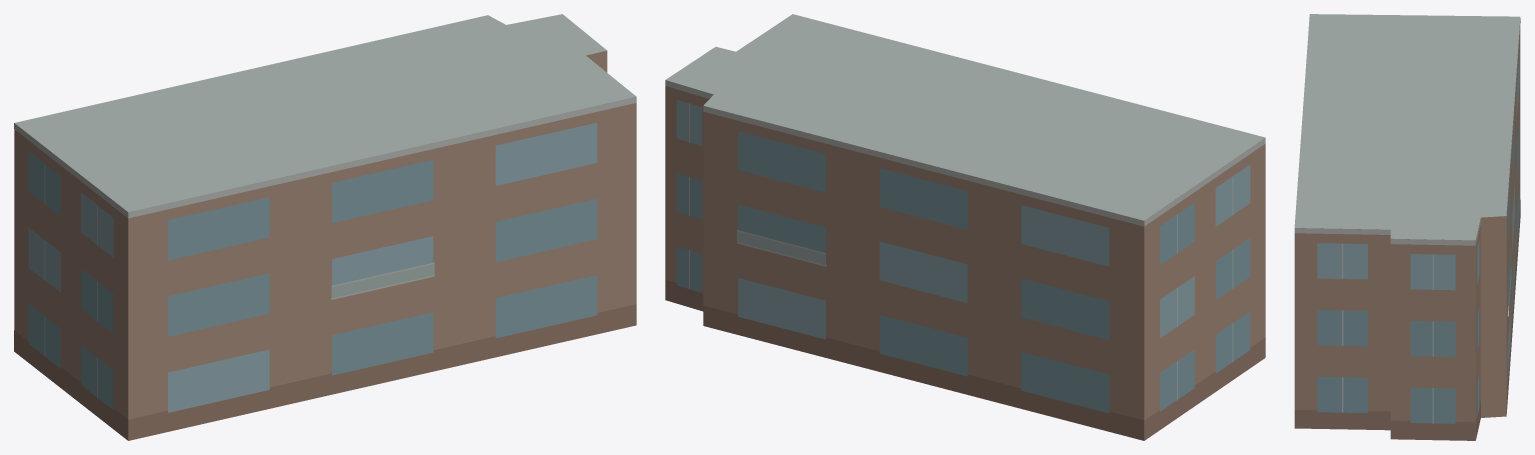
File: survey-upis-32598981.glb
3 views of the same model, side by side, from view 1: azimuth 30°, elevation 25°; view 2: azimuth 150°, elevation 25°; view 3: azimuth 270°, elevation 25° (orthographic). The views are drawn at different scales.
Visible parts, largest first — view 1: survey-upis-32598981.tmp; view 2: survey-upis-32598981.tmp; view 3: survey-upis-32598981.tmp.
Part boxes in pixels (left/top/right/bottom): survey-upis-32598981.tmp: left=14, top=14, right=636, bottom=440; survey-upis-32598981.tmp: left=665, top=14, right=1265, bottom=440; survey-upis-32598981.tmp: left=1294, top=14, right=1520, bottom=440.
Bounding box in the file's own units: 22.17 × 9.15 × 9.35.
